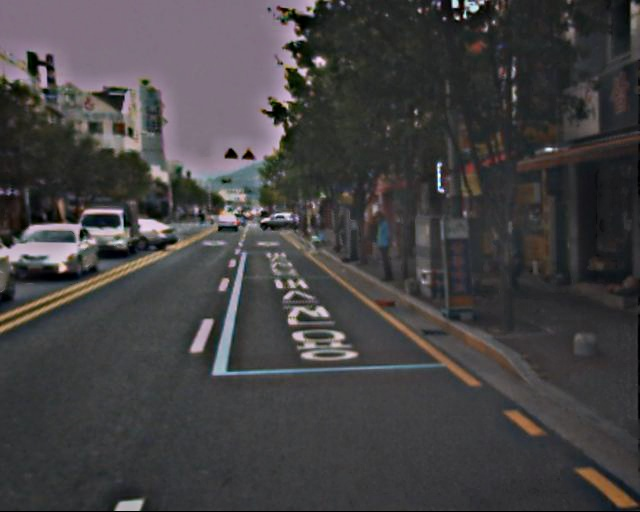person: (370, 210, 400, 284), (498, 221, 524, 285), (401, 212, 422, 262)
